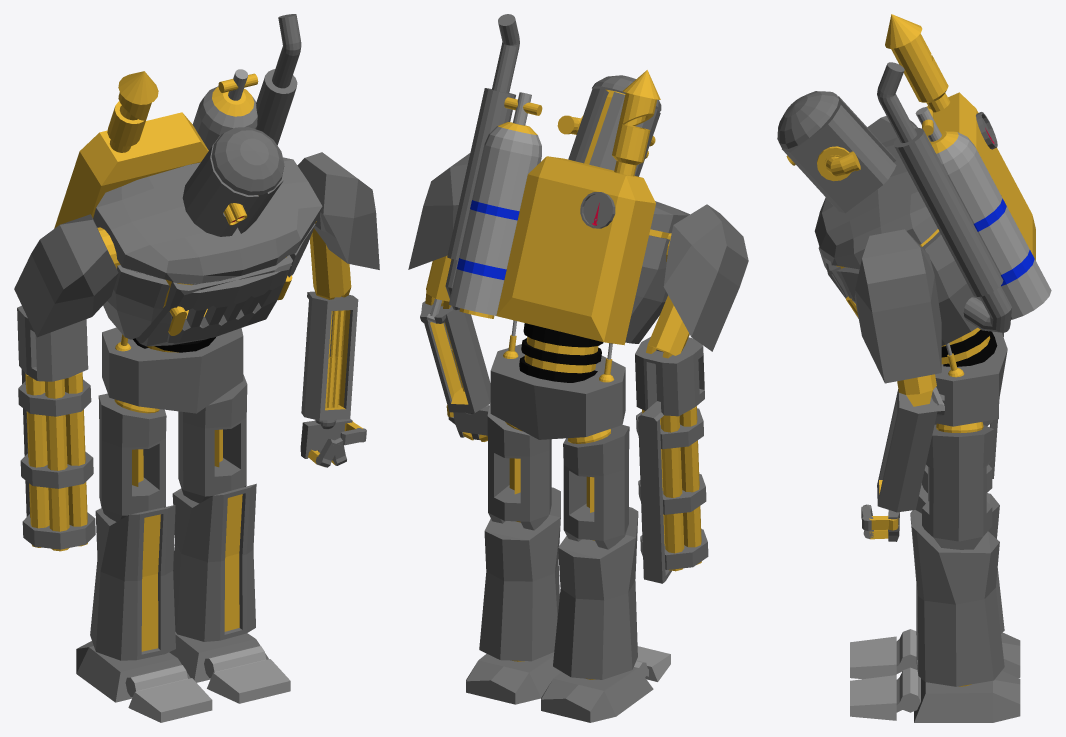
Rendered from TV_KiriBot.fbx.
3 renders of one model, left to right at view 1: azimuth 30°, elevation 25°; view 2: azimuth 150°, elevation 25°; view 3: azimuth 270°, elevation 25°, orthographic. The views are drawn at different scales.
Visible parts, largest first — view 1: TheRobo; view 2: TheRobo; view 3: TheRobo.
Boxes of the visible parts, x1,y1,x2,y2 form: TheRobo: (14, 14, 379, 722); TheRobo: (408, 14, 748, 722); TheRobo: (777, 14, 1051, 722).
Size of the model in its own units: 246 by 473 by 178.
